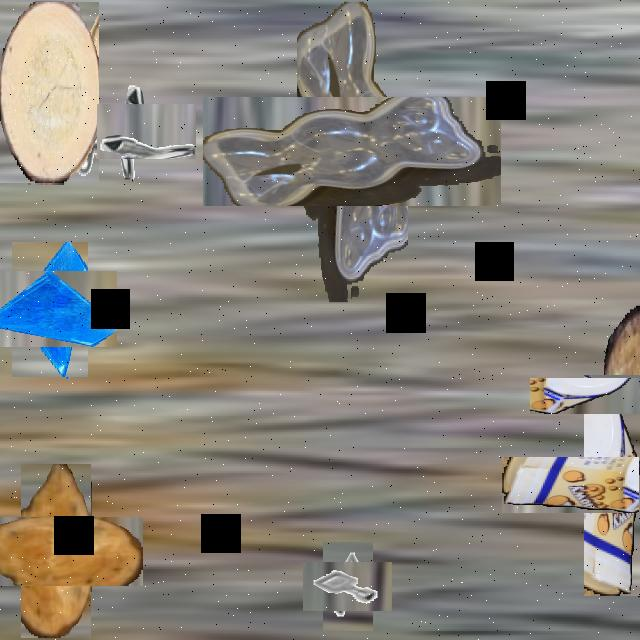glass: (0, 256, 102, 362)
metal: (108, 93, 186, 170), (313, 552, 383, 621), (0, 2, 28, 112)
plastic: (250, 49, 454, 253), (542, 416, 640, 554)
wood: (0, 2, 99, 183), (0, 490, 117, 612), (0, 54, 68, 174), (566, 341, 640, 451)
